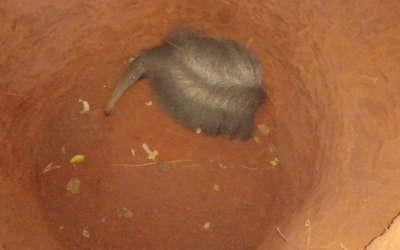TamanduaBandeira: (95, 33, 267, 147)
